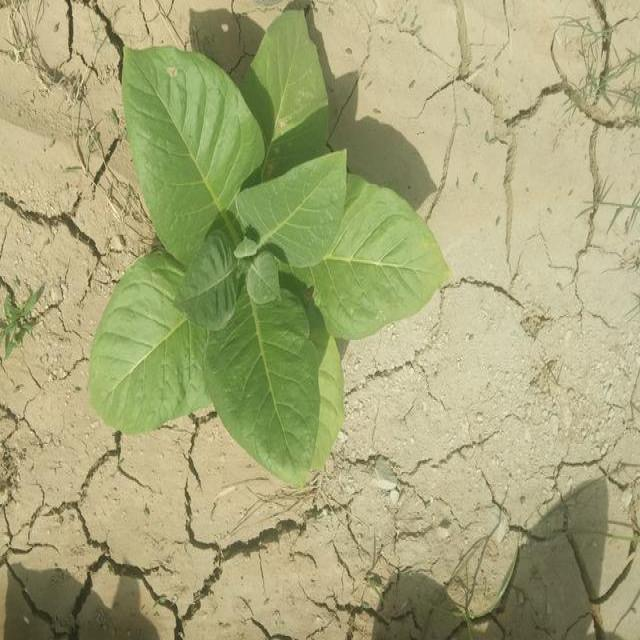crop: (99, 8, 444, 484)
